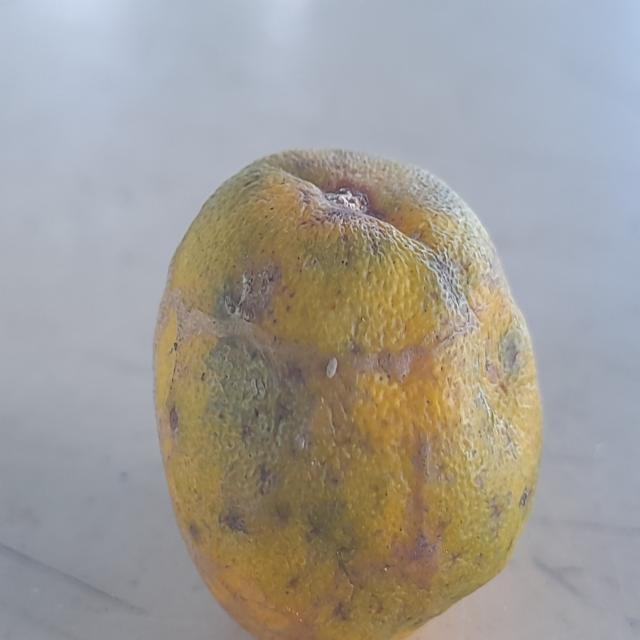black spot: (146, 140, 541, 640)
